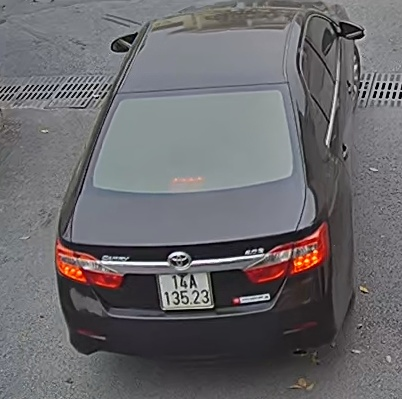vehicle plate: (154, 264, 224, 314)
